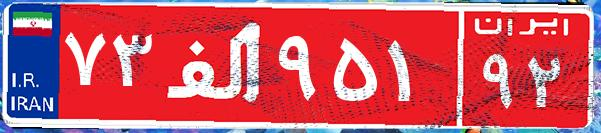1: (385, 28, 445, 110)
2: (525, 38, 570, 115)
3: (110, 28, 158, 105)
5: (330, 28, 385, 110)
7: (57, 26, 110, 107)
9: (273, 28, 330, 110), (475, 38, 525, 113)
الف: (158, 15, 273, 115)
